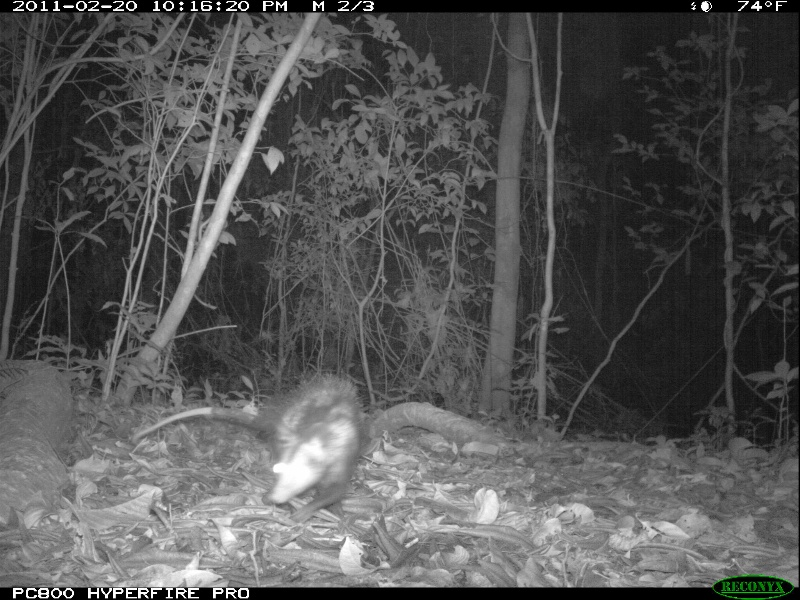opossum: (122, 372, 367, 519)
